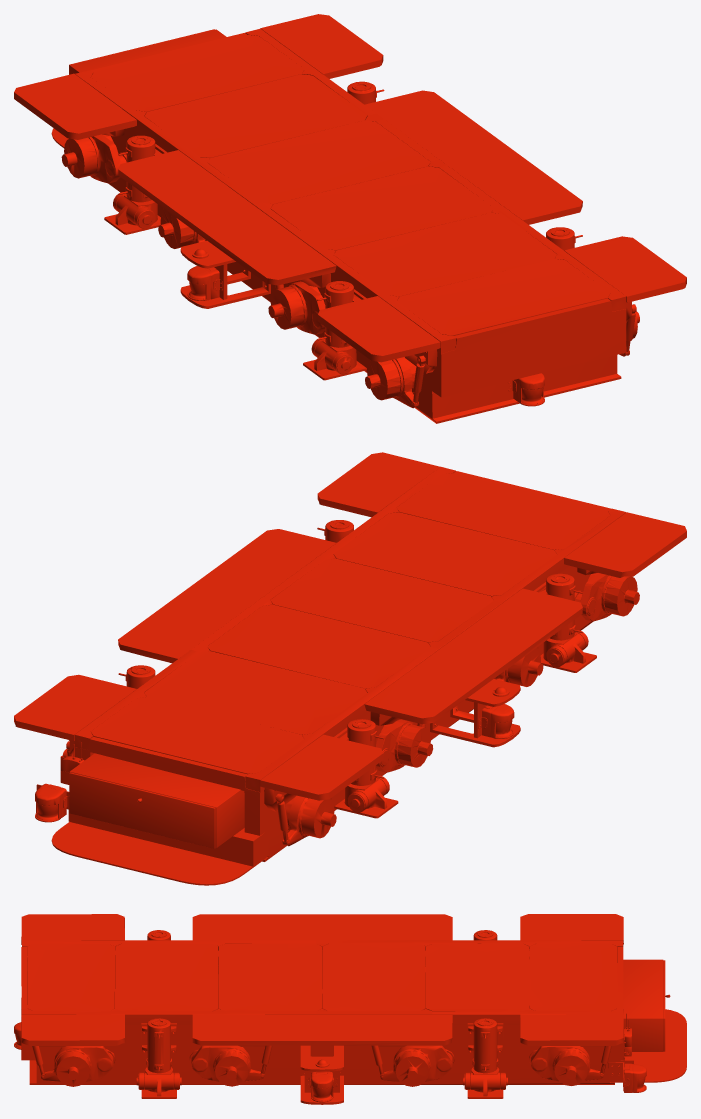
The model's file is omniwheel_frame.fbx.
The picture shows the model from 3 angles, top to bottom: view 1: azimuth 30°, elevation 25°; view 2: azimuth 150°, elevation 25°; view 3: azimuth 270°, elevation 25°; orthographic projection. The views are drawn at different scales.
Parts seen in each view (by area): view 1: frame_omniwheel_LOD0, Plane008_Elements8_Default_Default_LOD0, Plane008_Elements5_Default_Default_LOD0, Plane008_Elements54_Default_Default_LOD0, Plane008_Elements41_Default_Default_LOD0, Plane008_Elements80_Default_Default_LOD0, Plane008_Elements67_Default_Default_LOD0, Plane008_Elements28_Default_Default_LOD0, Plane008_Elements93_Default_Default_LOD0, Plane008_Elements7_Default_Default_LOD0, Plane008_Elements9_Default_Default_LOD0, Plane008_Elements25_Default_Default_LOD0 (+14 smaller); view 2: Plane008_Elements8_Default_Default_LOD0, Plane008_Elements5_Default_Default_LOD0, Plane008_Elements41_Default_Default_LOD0, Plane008_Elements54_Default_Default_LOD0, Plane008_Elements67_Default_Default_LOD0, Plane008_Elements80_Default_Default_LOD0, Plane008_Elements93_Default_Default_LOD0, Plane008_Elements28_Default_Default_LOD0, frame_omniwheel_LOD0, Plane008_Elements106_Default_LOD0, Plane008_Elements26_Default_LOD0, Plane008_Elements107_Default_LOD0 (+18 smaller); view 3: frame_omniwheel_LOD0, Plane008_Elements5_Default_Default_LOD0, Plane008_Elements54_Default_Default_LOD0, Plane008_Elements41_Default_Default_LOD0, Plane008_Elements67_Default_Default_LOD0, Plane008_Elements80_Default_Default_LOD0, Plane008_Elements8_Default_Default_LOD0, Plane008_Elements93_Default_Default_LOD0, Plane008_Elements28_Default_Default_LOD0, Plane008_Elements24_Default_Default_LOD0, Plane008_Elements107_Default_LOD0, Plane008_Elements6_Default_Default_LOD0 (+16 smaller).
Boxes of the visible parts, box(x1,y1,x2,y2) form: frame_omniwheel_LOD0: box(90, 33, 626, 423); Plane008_Elements8_Default_Default_LOD0: box(118, 150, 336, 285); Plane008_Elements5_Default_Default_LOD0: box(365, 90, 582, 224); Plane008_Elements54_Default_Default_LOD0: box(270, 166, 493, 250); Plane008_Elements41_Default_Default_LOD0: box(334, 212, 556, 296); Plane008_Elements80_Default_Default_LOD0: box(144, 74, 367, 157); Plane008_Elements67_Default_Default_LOD0: box(207, 120, 430, 204); Plane008_Elements28_Default_Default_LOD0: box(397, 258, 610, 335); Plane008_Elements93_Default_Default_LOD0: box(91, 35, 304, 112); Plane008_Elements7_Default_Default_LOD0: box(317, 296, 440, 362); Plane008_Elements9_Default_Default_LOD0: box(14, 73, 136, 139); Plane008_Elements25_Default_Default_LOD0: box(75, 70, 455, 354); Plane008_Elements8_Default_Default_LOD0: box(364, 588, 582, 724); Plane008_Elements5_Default_Default_LOD0: box(118, 529, 336, 663); Plane008_Elements41_Default_Default_LOD0: box(333, 512, 556, 596); Plane008_Elements54_Default_Default_LOD0: box(270, 558, 493, 642); Plane008_Elements67_Default_Default_LOD0: box(207, 604, 430, 688); Plane008_Elements80_Default_Default_LOD0: box(144, 651, 367, 734); Plane008_Elements93_Default_Default_LOD0: box(91, 697, 304, 774); Plane008_Elements28_Default_Default_LOD0: box(397, 473, 610, 550); frame_omniwheel_LOD0: box(75, 471, 610, 861); Plane008_Elements106_Default_LOD0: box(69, 772, 215, 848); Plane008_Elements26_Default_LOD0: box(51, 822, 266, 885); Plane008_Elements107_Default_LOD0: box(69, 753, 244, 848); frame_omniwheel_LOD0: box(21, 947, 623, 1084); Plane008_Elements5_Default_Default_LOD0: box(192, 1014, 452, 1045); Plane008_Elements54_Default_Default_LOD0: box(218, 943, 322, 1011); Plane008_Elements41_Default_Default_LOD0: box(115, 943, 218, 1011); Plane008_Elements67_Default_Default_LOD0: box(322, 943, 425, 1011); Plane008_Elements80_Default_Default_LOD0: box(426, 943, 529, 1011); Plane008_Elements8_Default_Default_LOD0: box(192, 914, 452, 940); Plane008_Elements93_Default_Default_LOD0: box(529, 943, 617, 1011); Plane008_Elements28_Default_Default_LOD0: box(27, 943, 114, 1011); Plane008_Elements24_Default_Default_LOD0: box(22, 1008, 622, 1024); Plane008_Elements107_Default_LOD0: box(623, 959, 663, 1051); Plane008_Elements6_Default_Default_LOD0: box(520, 1014, 623, 1045).
Size of what is drawn, in the model's own units: 2365 by 601 by 5184.
